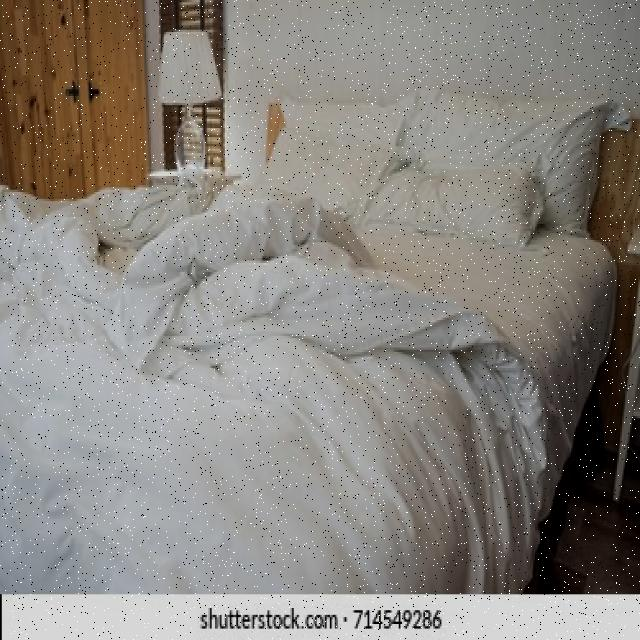bed: (0, 84, 612, 596)
